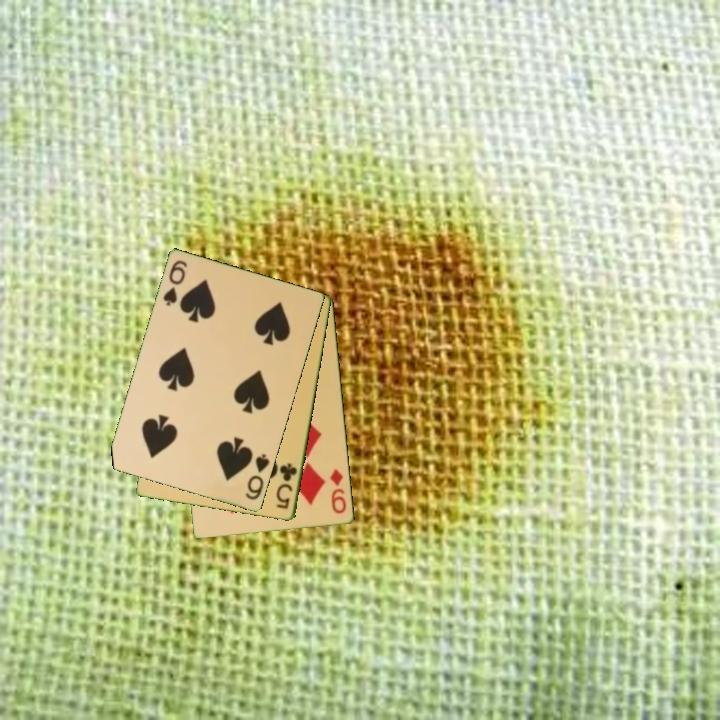5c: (273, 460, 300, 512)
6s: (242, 450, 273, 503), (160, 257, 190, 309)
9d: (327, 466, 349, 517)
